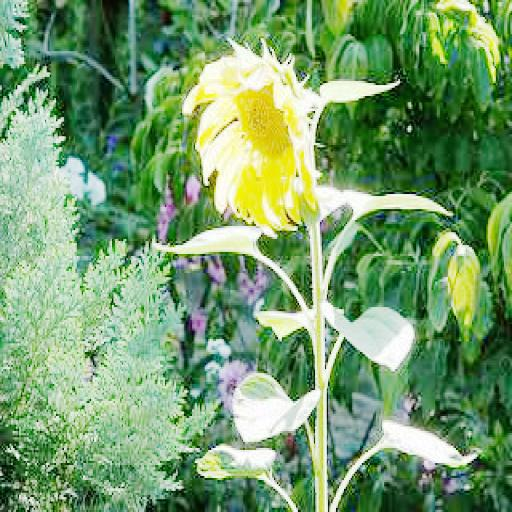sunflower: (186, 38, 322, 235)
